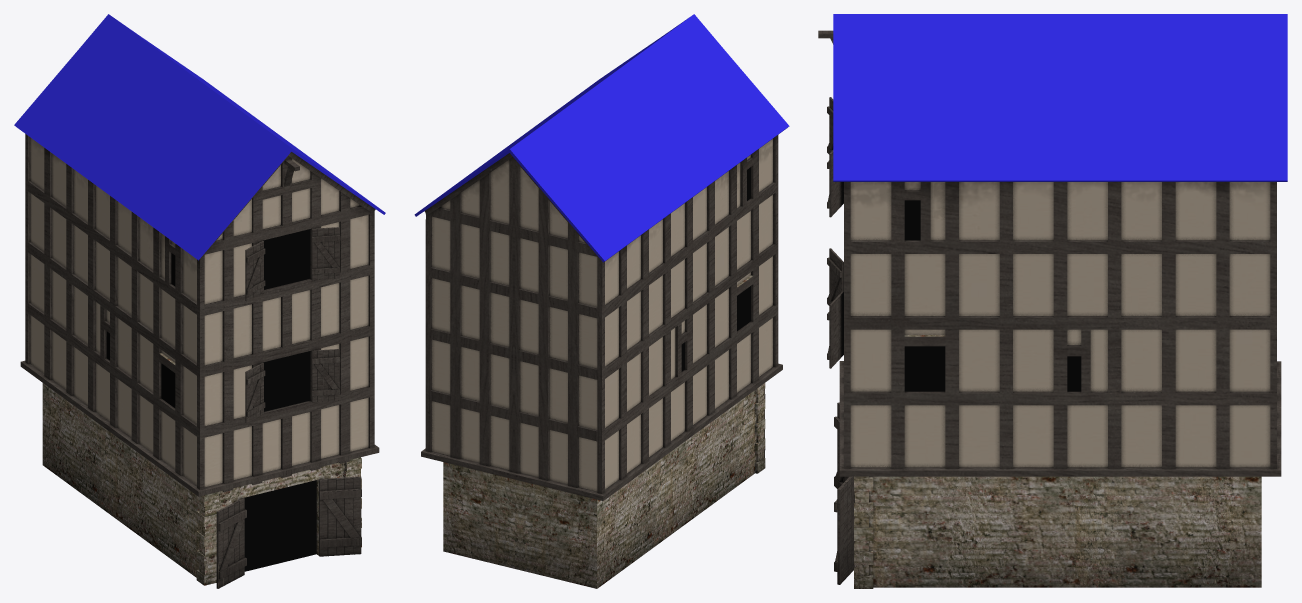
Rendered from Deposito final.fbx.
3 views of the same model, side by side, from view 1: azimuth 30°, elevation 25°; view 2: azimuth 150°, elevation 25°; view 3: azimuth 270°, elevation 25° (orthographic). The views are drawn at different scales.
Parts seen in each view (by area): view 1: Paredes.006, Paredes.001; view 2: Paredes.006, Paredes.001; view 3: Paredes.006, Paredes.001.
Boxes of the visible parts, x1,y1,x2,y2 form: Paredes.006: [20, 134, 379, 588]; Paredes.001: [14, 14, 385, 260]; Paredes.006: [421, 135, 782, 588]; Paredes.001: [414, 14, 789, 262]; Paredes.006: [818, 30, 1281, 588]; Paredes.001: [833, 14, 1287, 181].
Bounding box in the file's own units: 5182 × 11142 × 8979.
2 materials, 1 textured.
